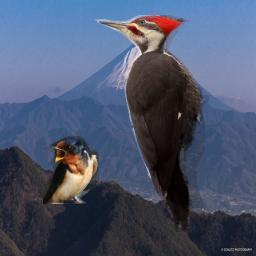Swallow: (43, 136, 99, 204)
Woodpecker: (94, 15, 209, 232)
